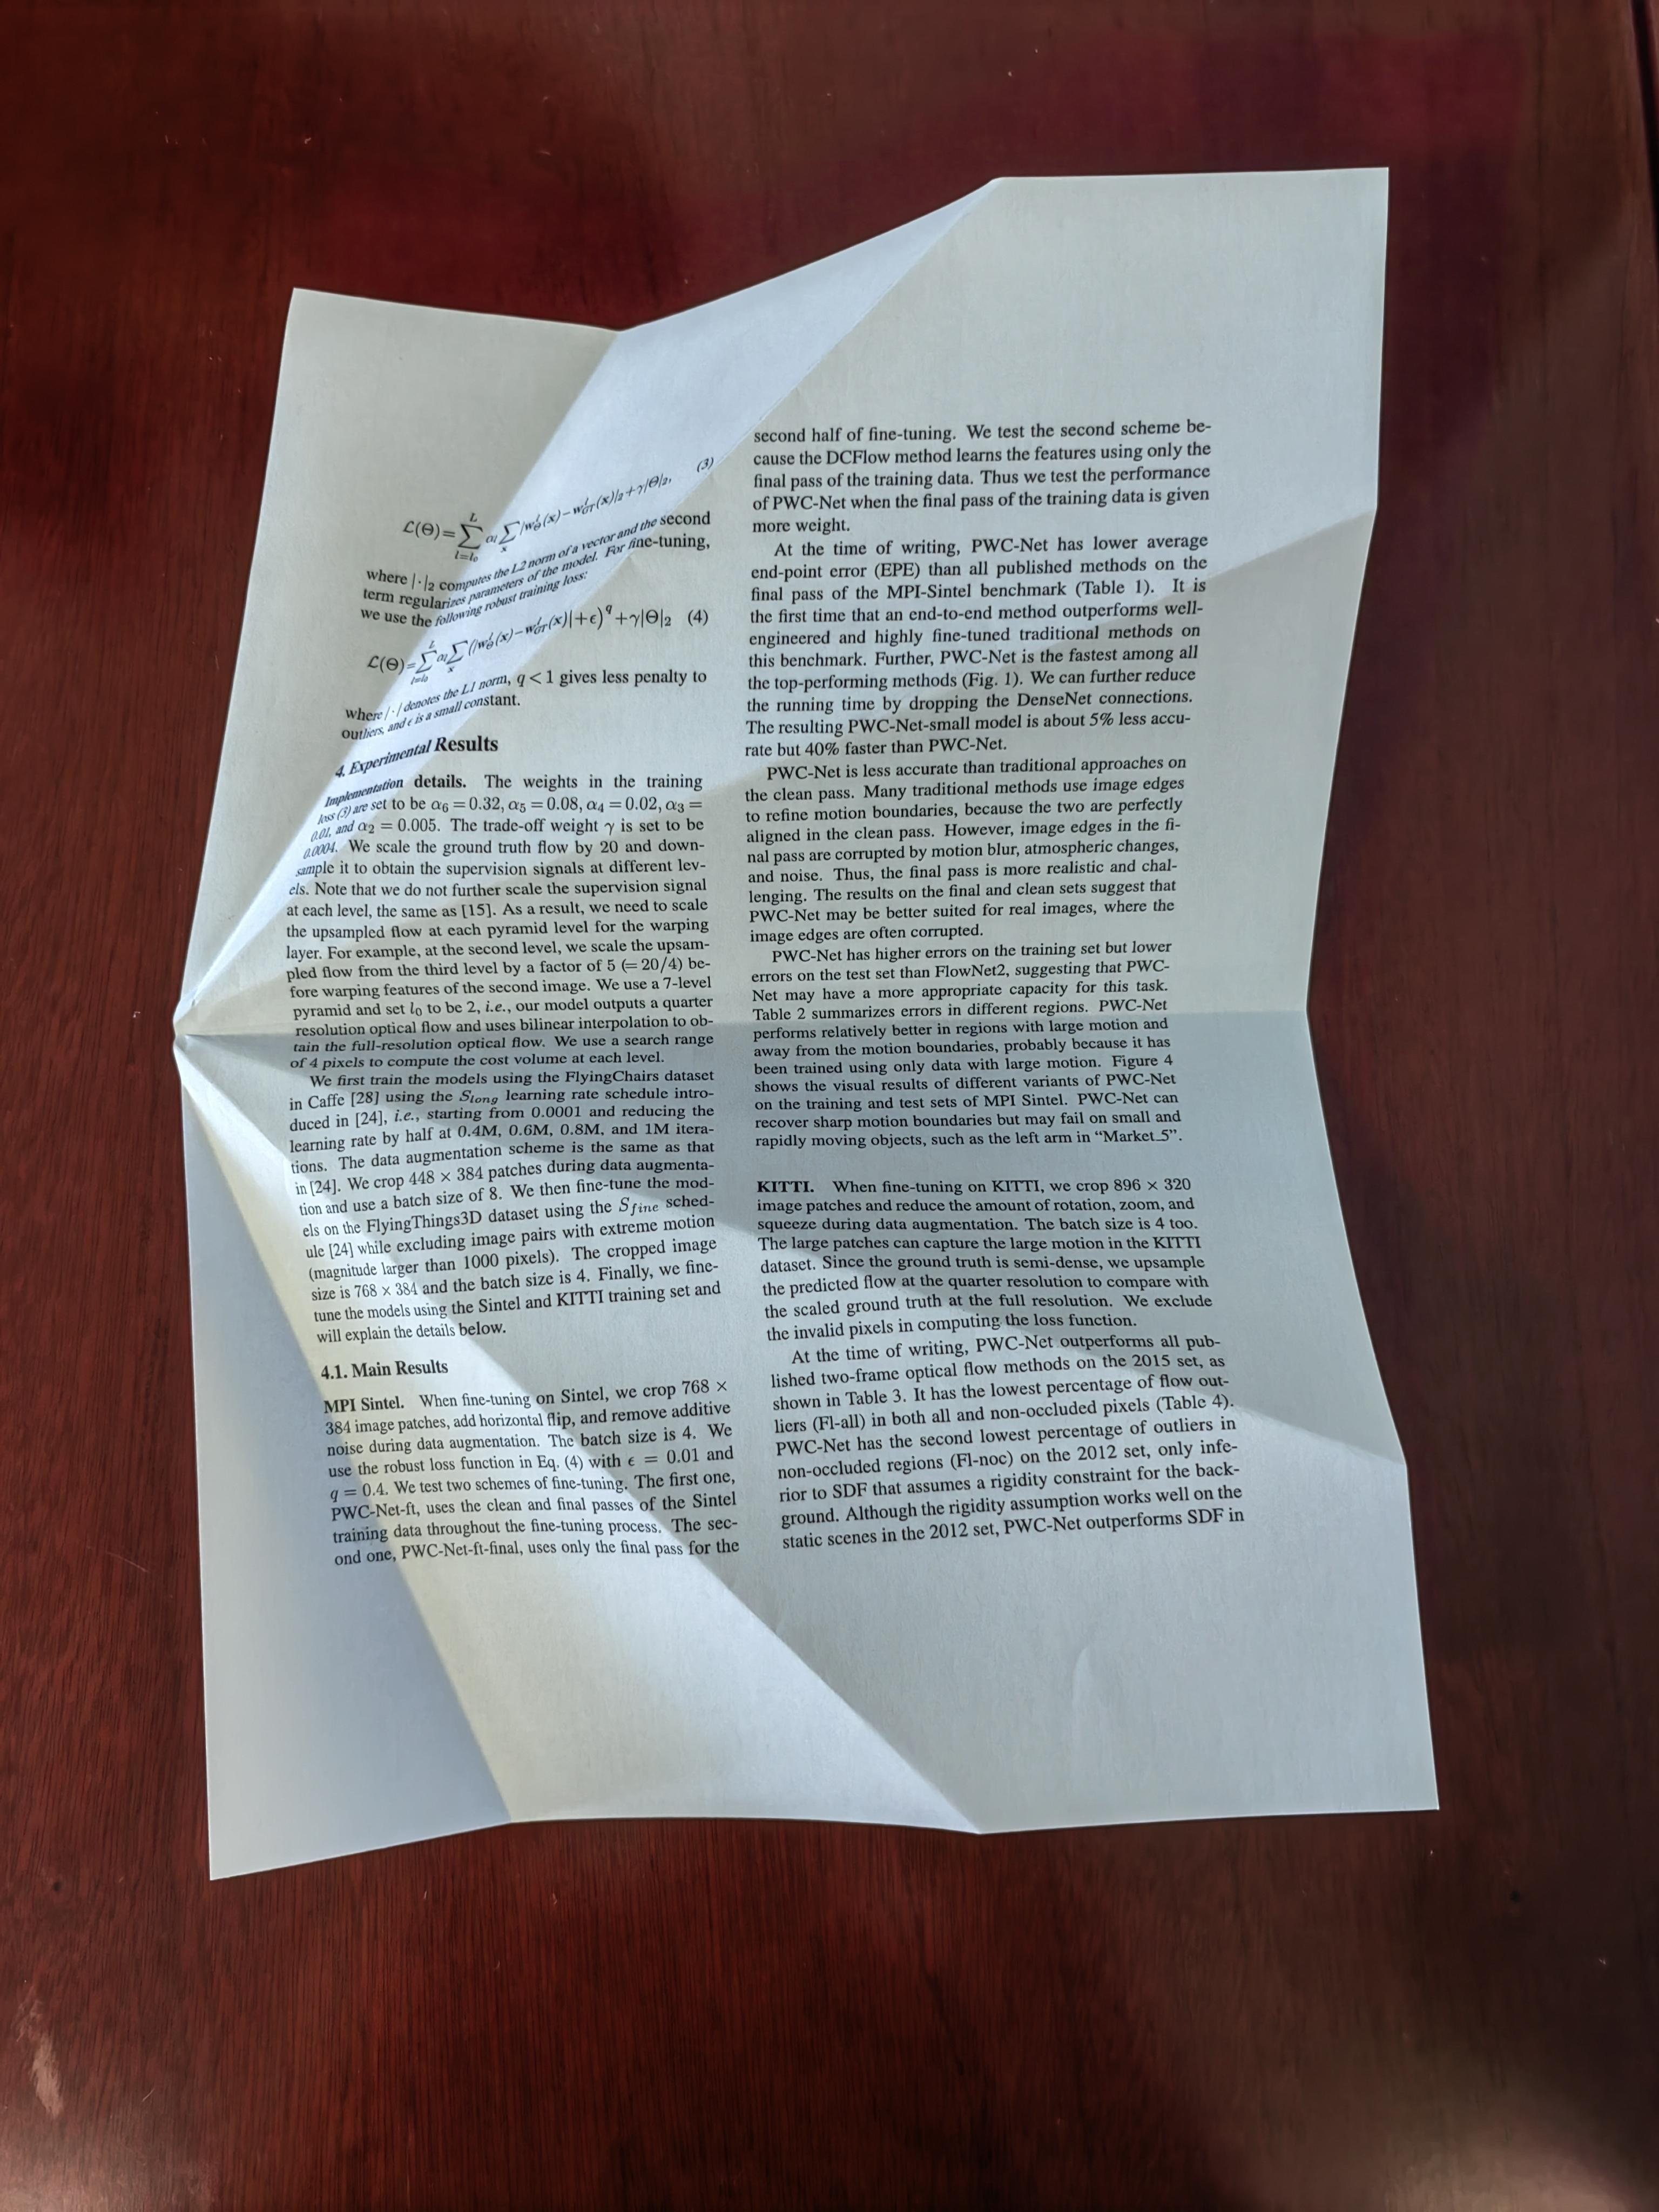paper: (143, 73, 1659, 2087)
